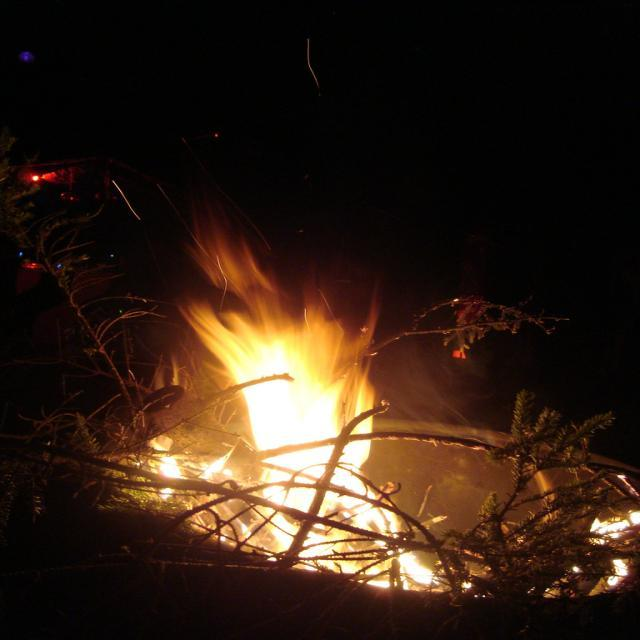Fire: (242, 334, 373, 547)
